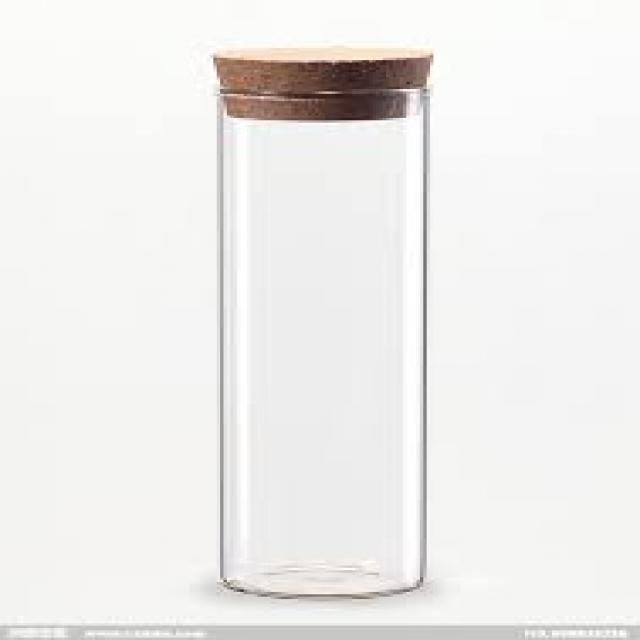Glass-Non-Biodegradable but Recyclable-: (215, 90, 427, 601)
